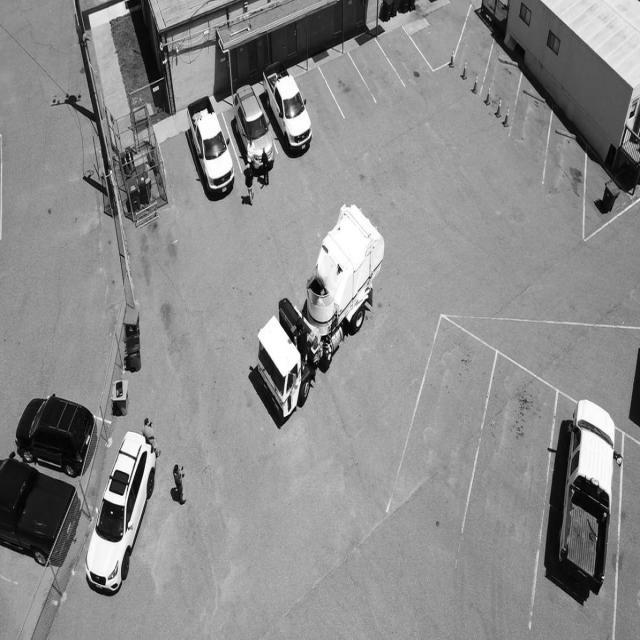Garbage Truck: (248, 205, 385, 430)
